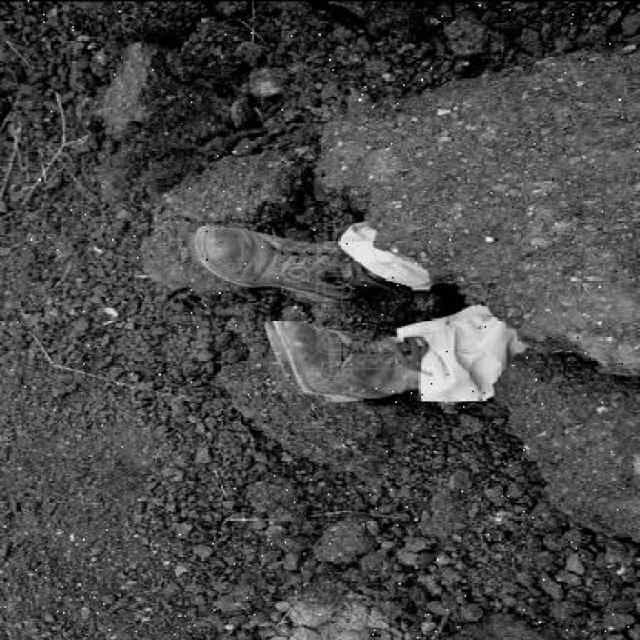shoes: (263, 312, 435, 406), (202, 228, 367, 292)
